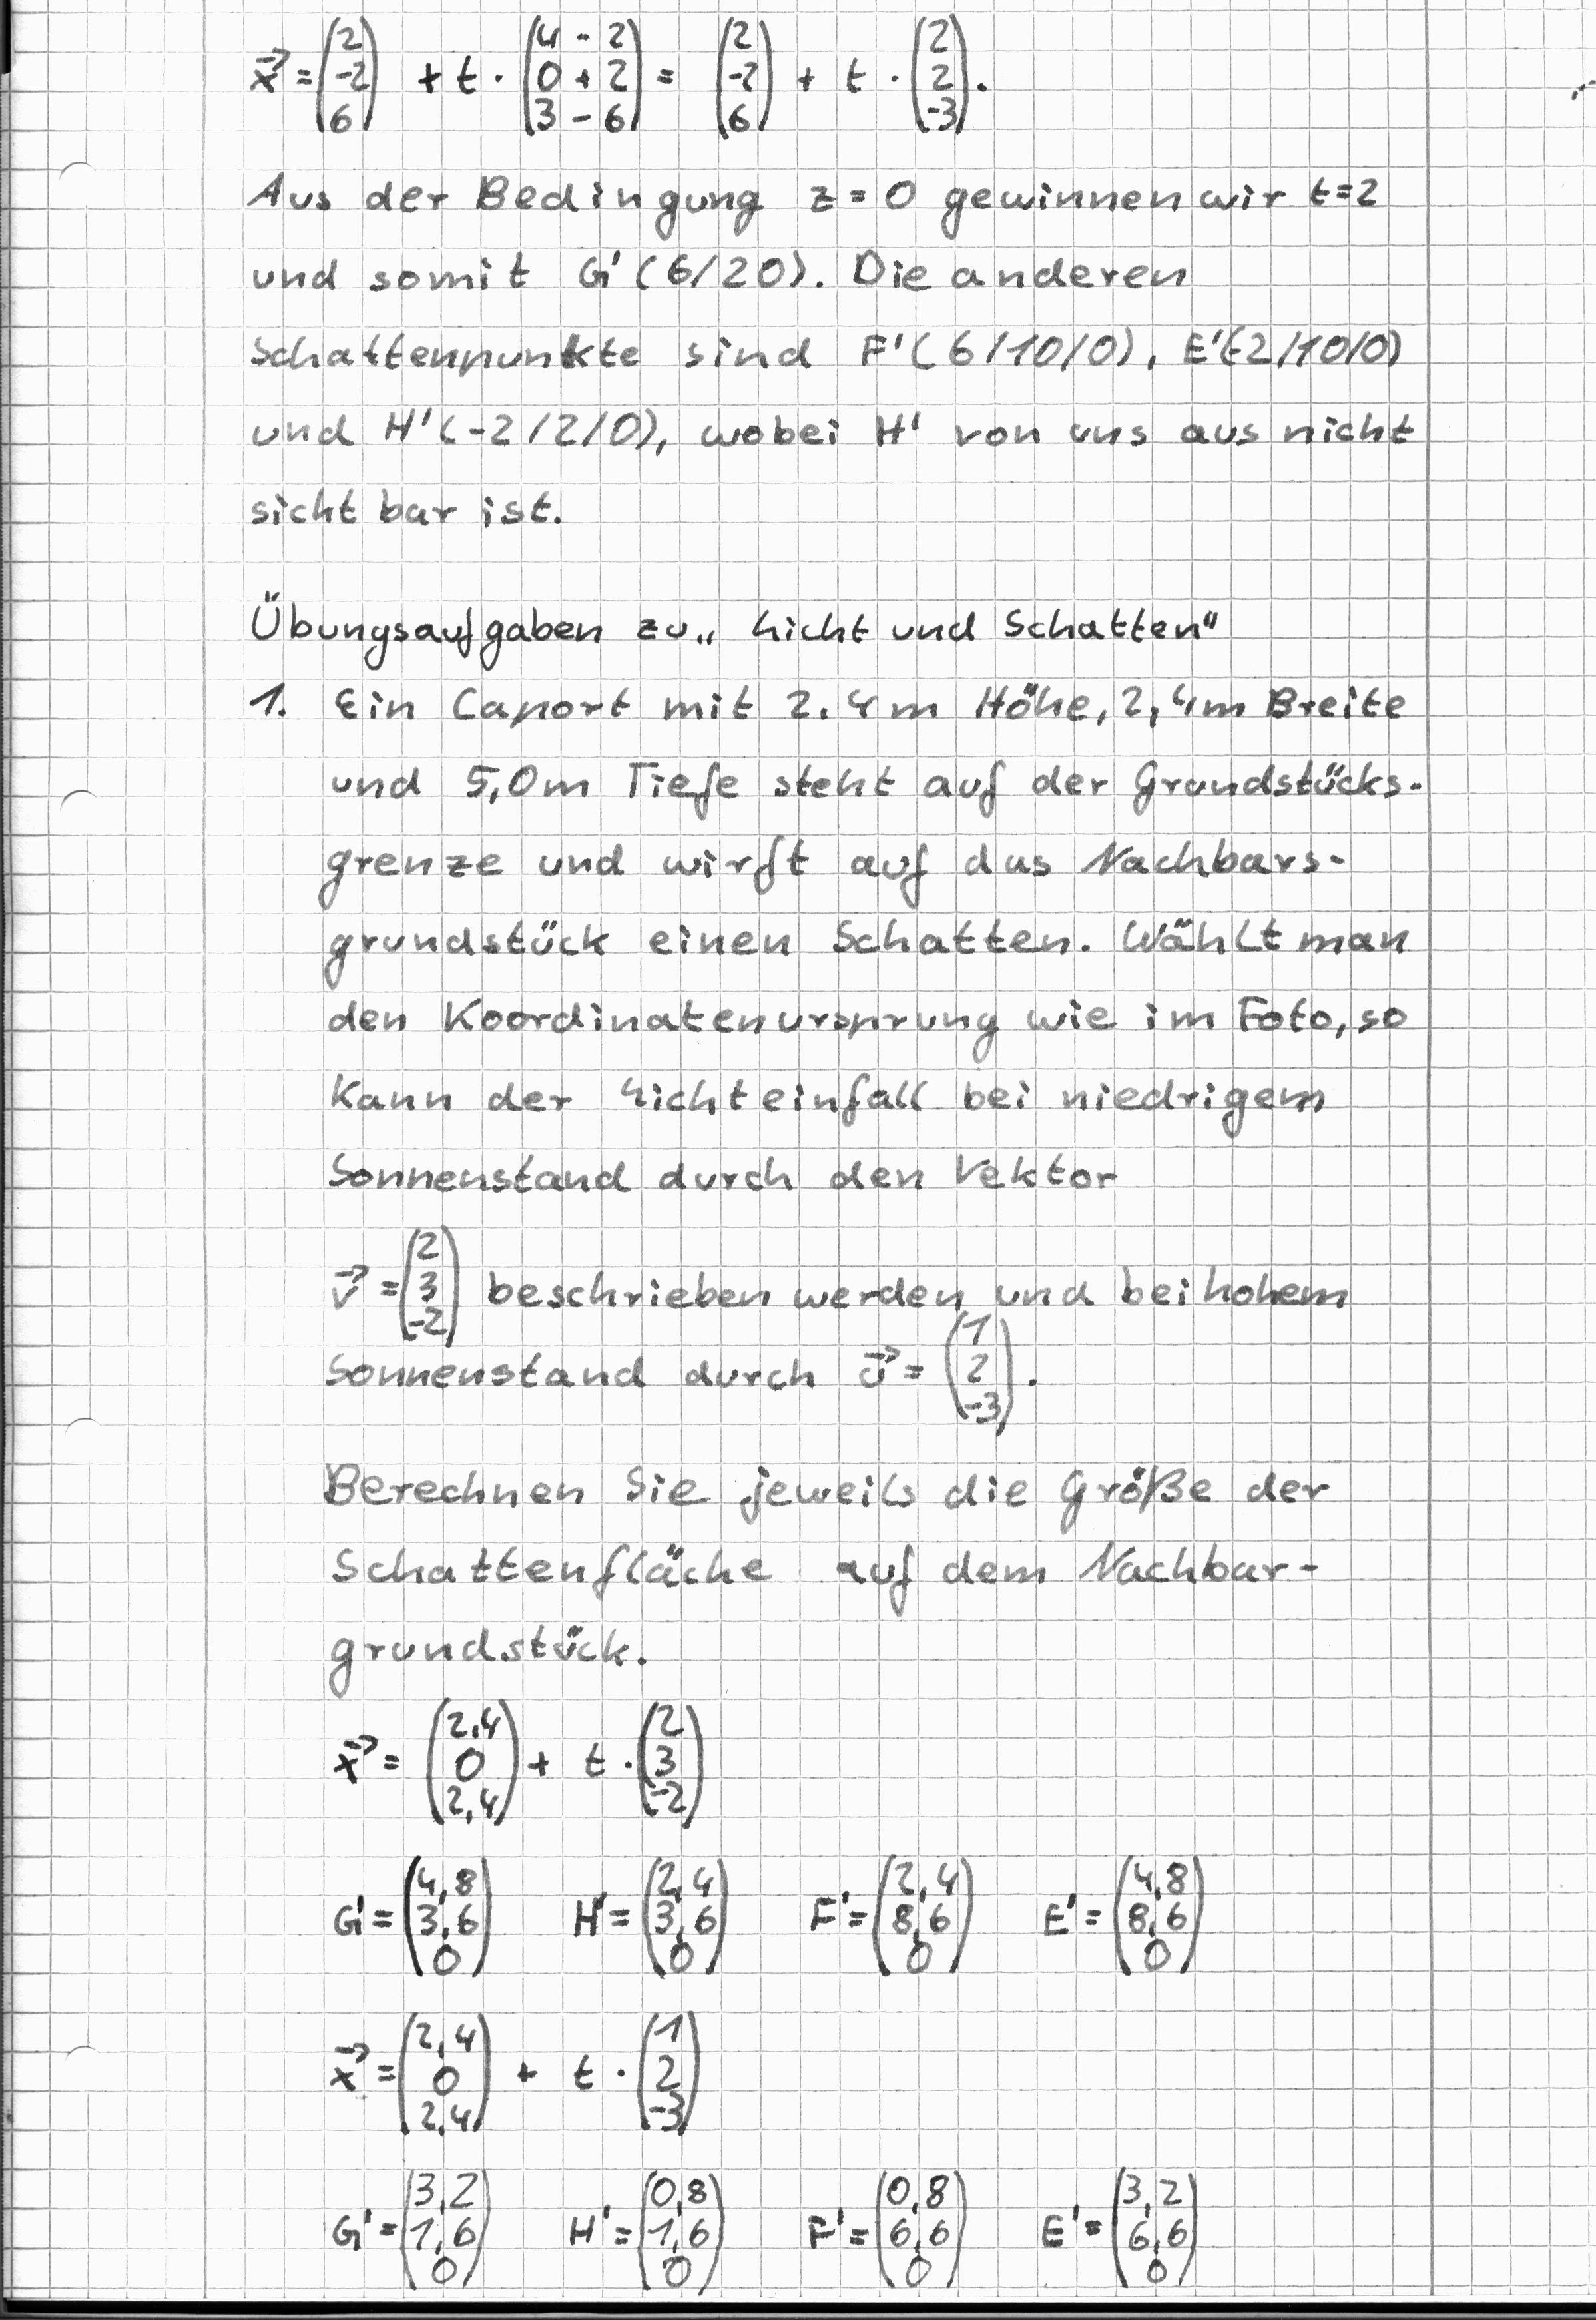word: (310, 675, 1434, 1200), (240, 165, 1420, 546), (318, 1450, 1347, 1702), (322, 1218, 1356, 1442), (237, 6, 1003, 150), (237, 577, 1223, 673), (326, 1693, 718, 1839), (513, 2004, 712, 2141), (324, 1845, 510, 1990), (801, 1849, 994, 1986), (567, 1848, 744, 1992), (1033, 1843, 1217, 1980), (1031, 2164, 1211, 2297), (328, 2163, 497, 2304), (557, 2164, 732, 2299), (322, 2008, 499, 2141), (800, 2164, 972, 2295), (235, 655, 304, 750)
